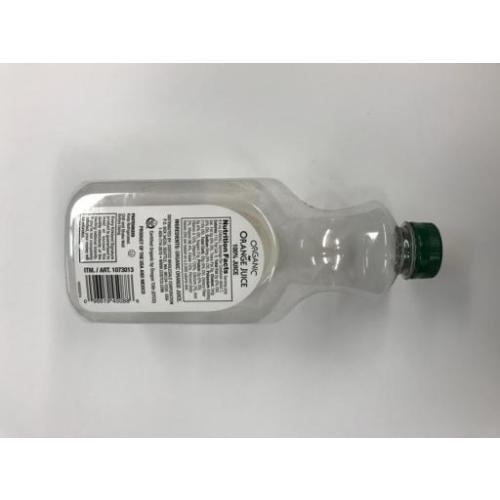plastic: (68, 182, 443, 325)
